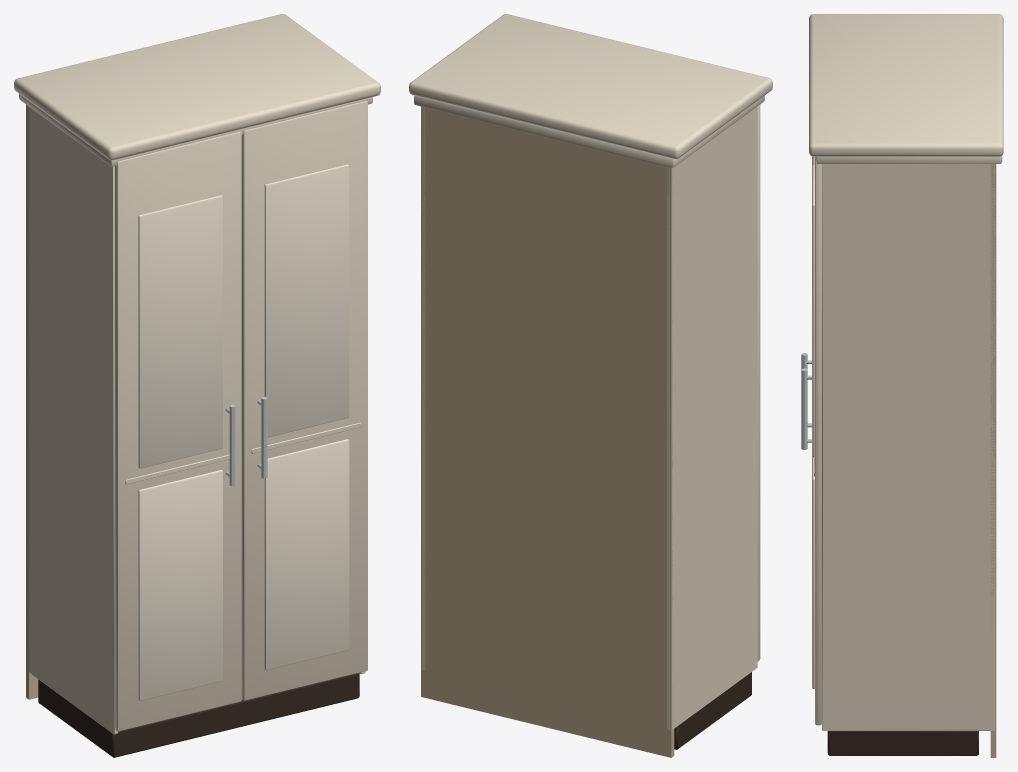
The model's file is wardrobe.glb.
The picture shows the model from 3 angles, left to right: view 1: azimuth 30°, elevation 25°; view 2: azimuth 150°, elevation 25°; view 3: azimuth 270°, elevation 25°; orthographic projection.
Visible parts, largest first — view 1: side, door.001, door, crown, panel_hi.001, panel_hi, panel_lo.001, panel_lo, plinth, back, top; view 2: back, side, crown, top, door, side.001, plinth; view 3: side.001, crown, door.001, plinth, back, top, panel_hi.001, panel_lo.001, handle.001.
Boxes of the visible parts, bbox=[...] form: side: bbox=[27, 105, 118, 734]; door.001: bbox=[241, 101, 367, 700]; door: bbox=[115, 131, 241, 731]; crown: bbox=[14, 14, 380, 160]; panel_hi.001: bbox=[264, 164, 349, 437]; panel_hi: bbox=[138, 195, 222, 468]; panel_lo.001: bbox=[264, 439, 349, 670]; panel_lo: bbox=[138, 470, 222, 700]; plinth: bbox=[38, 673, 359, 757]; back: bbox=[26, 104, 38, 699]; top: bbox=[19, 94, 372, 166]; back: bbox=[421, 106, 674, 757]; side: bbox=[667, 106, 757, 730]; crown: bbox=[409, 14, 772, 159]; top: bbox=[414, 95, 764, 167]; door: bbox=[757, 104, 760, 661]; side.001: bbox=[422, 107, 425, 670]; plinth: bbox=[674, 672, 751, 749]; side.001: bbox=[822, 164, 995, 730]; crown: bbox=[809, 14, 1003, 156]; door.001: bbox=[815, 156, 821, 725]; plinth: bbox=[827, 731, 978, 755]; back: bbox=[990, 164, 996, 757]; top: bbox=[816, 155, 1002, 163]; panel_hi.001: bbox=[812, 165, 814, 457]; panel_lo.001: bbox=[812, 456, 814, 688]; handle.001: bbox=[801, 368, 807, 449].
Bounding box in the file's own units: 1.08 × 2.34 × 0.696.
